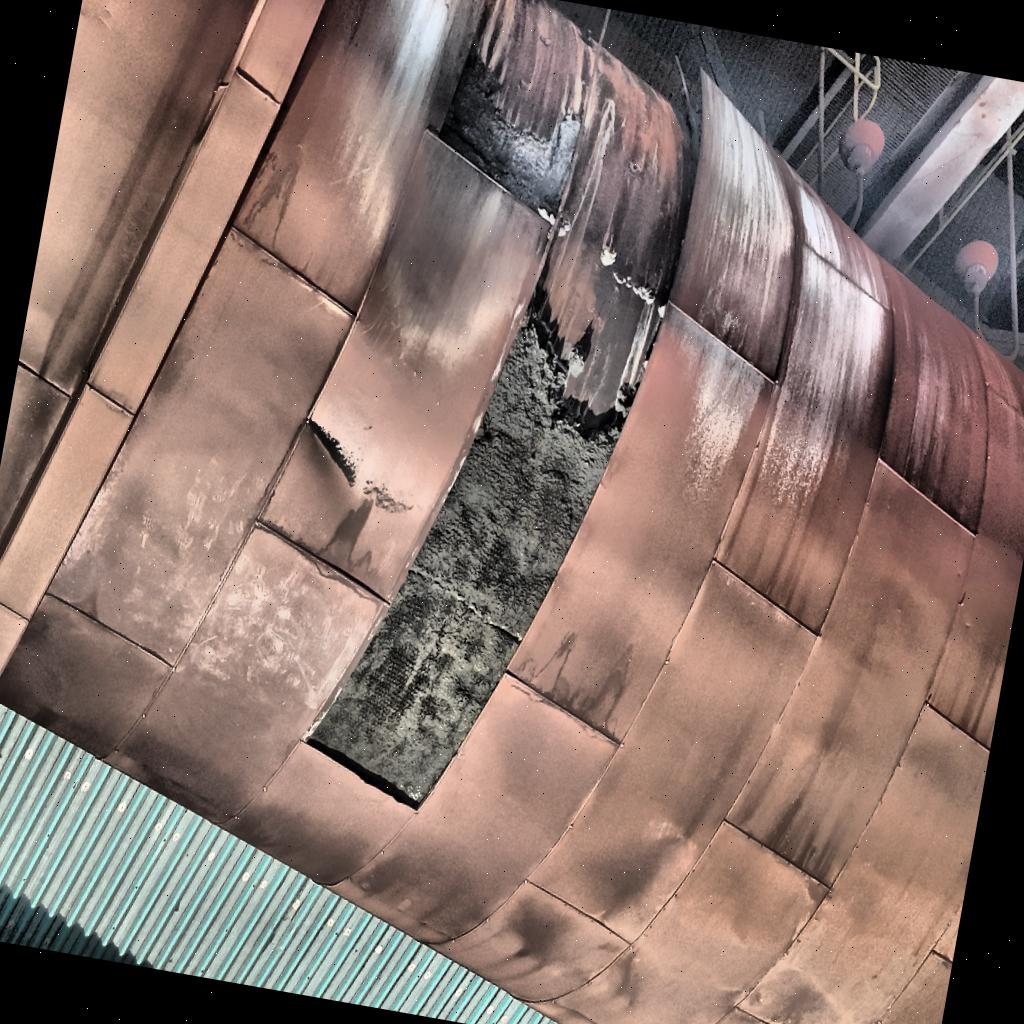Failures: (264, 0, 759, 854)
